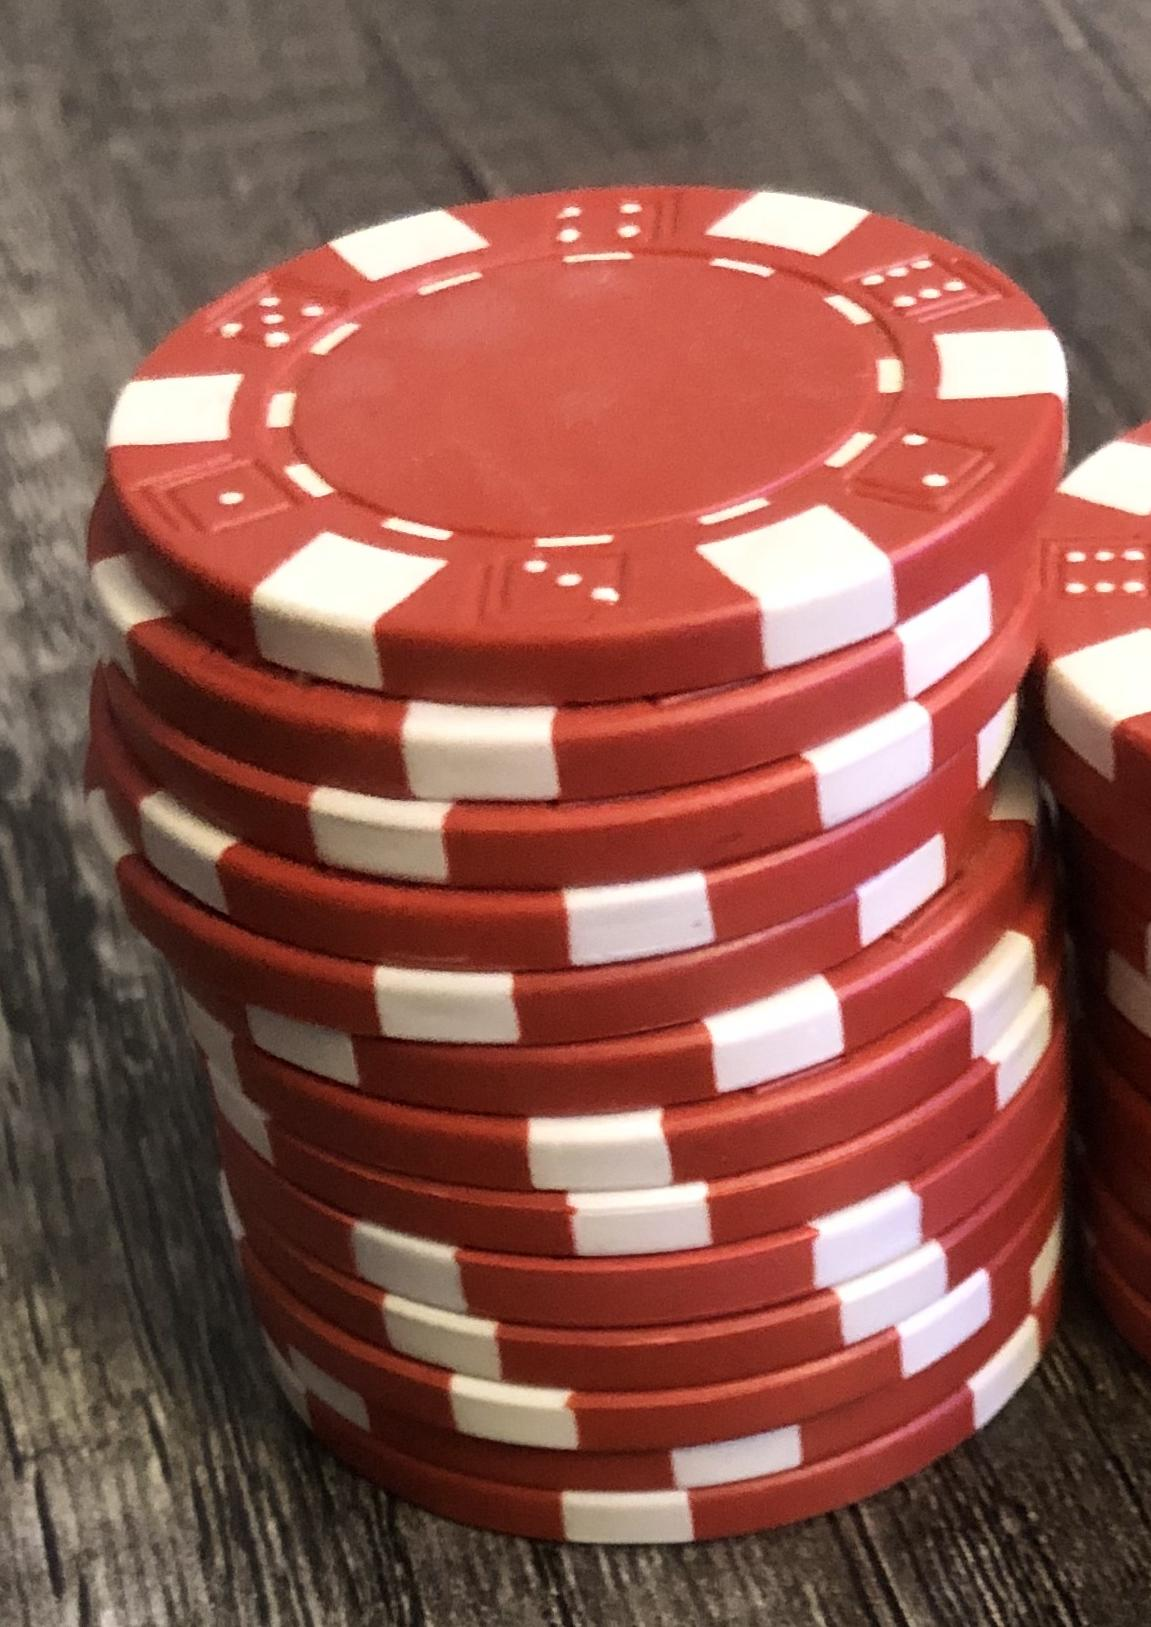Chip: (1, 1, 1151, 1627)
